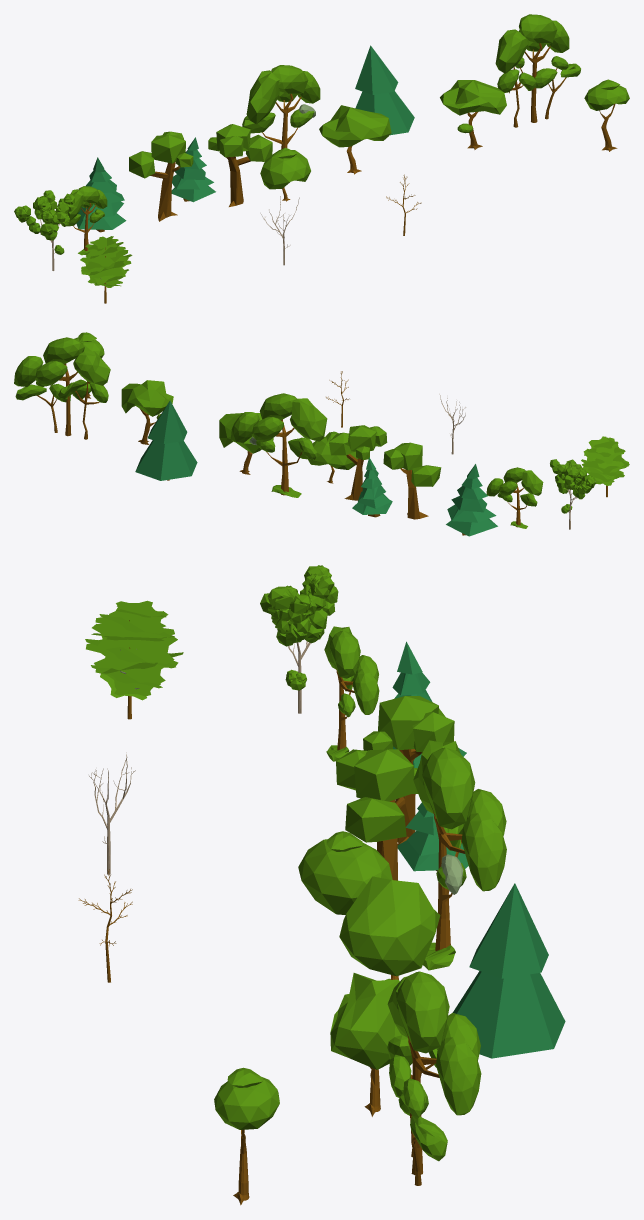
Rendered from trees.fbx.
3 renders of one model, top to bottom at view 1: azimuth 30°, elevation 25°; view 2: azimuth 150°, elevation 25°; view 3: azimuth 270°, elevation 25°, orthographic. The views are drawn at different scales.
Visible parts, largest first — view 1: tree3, tree11, tree0, tree8, tree6, tree1, tree7, tree15, tree4, tree13, tree5, tree12 (+3 smaller); view 2: tree3, tree11, tree0, tree4, tree8, tree6, tree12, tree15, tree7, tree5, tree13, Revestimie (+3 smaller); view 3: tree3, tree0, tree11, tree1, tree6, tree15, tree13, tree7, tree8, tree12, tree2, tree5 (+2 smaller).
Boxes of the visible parts, x1,y1,x2,y2 form: tree3: (495, 14, 580, 127); tree11: (242, 65, 320, 149); tree0: (355, 45, 414, 135); tree8: (129, 131, 193, 221); tree6: (208, 124, 272, 206); tree1: (319, 105, 391, 147); tree7: (440, 80, 506, 133); tree15: (80, 236, 132, 287); tree4: (76, 157, 126, 232); tree13: (260, 147, 310, 189); tree5: (171, 137, 215, 202); tree12: (67, 186, 107, 255); tree3: (14, 337, 110, 439); tree11: (230, 393, 327, 497); tree0: (135, 400, 197, 480); tree4: (446, 464, 497, 536); tree8: (383, 442, 441, 519); tree6: (329, 425, 387, 500); tree12: (486, 467, 543, 528); tree15: (581, 436, 629, 485); tree7: (121, 380, 173, 419); tree5: (352, 457, 392, 517); tree13: (308, 431, 358, 469); Revestimie: (555, 464, 595, 499); tree3: (387, 971, 481, 1185); tree0: (452, 883, 565, 1058); tree11: (413, 740, 506, 970); tree1: (339, 876, 440, 976); tree6: (336, 749, 418, 880); tree15: (85, 600, 183, 700); tree13: (298, 831, 392, 914); tree7: (330, 973, 401, 1069); tree8: (363, 696, 454, 844); tree12: (324, 626, 379, 761); tree2: (214, 1067, 279, 1205); tree5: (397, 802, 468, 871).
Bounding box in the file's own units: 2916 × 518 × 1120.
